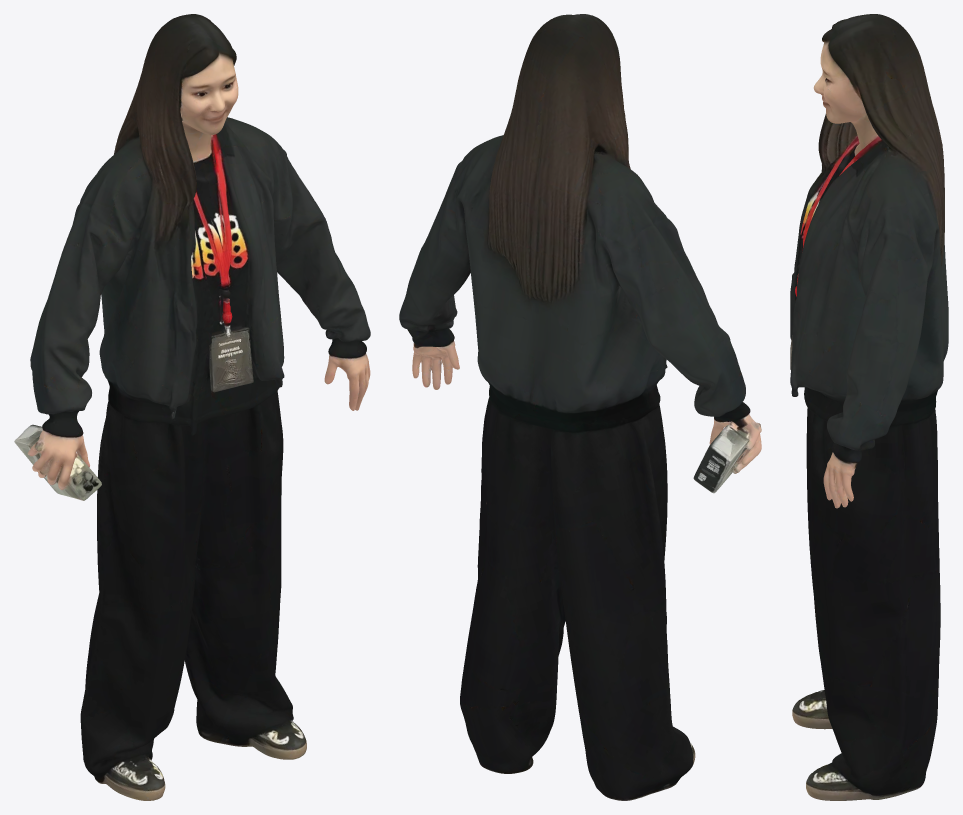
The model's file is amina.glb.
3 views of the same model, side by side, from view 1: azimuth 30°, elevation 25°; view 2: azimuth 150°, elevation 25°; view 3: azimuth 270°, elevation 25° (orthographic).
Bounding box in the file's own units: 0.9201 × 1.9 × 0.368.
Materials: 1 (1 with a texture image).
